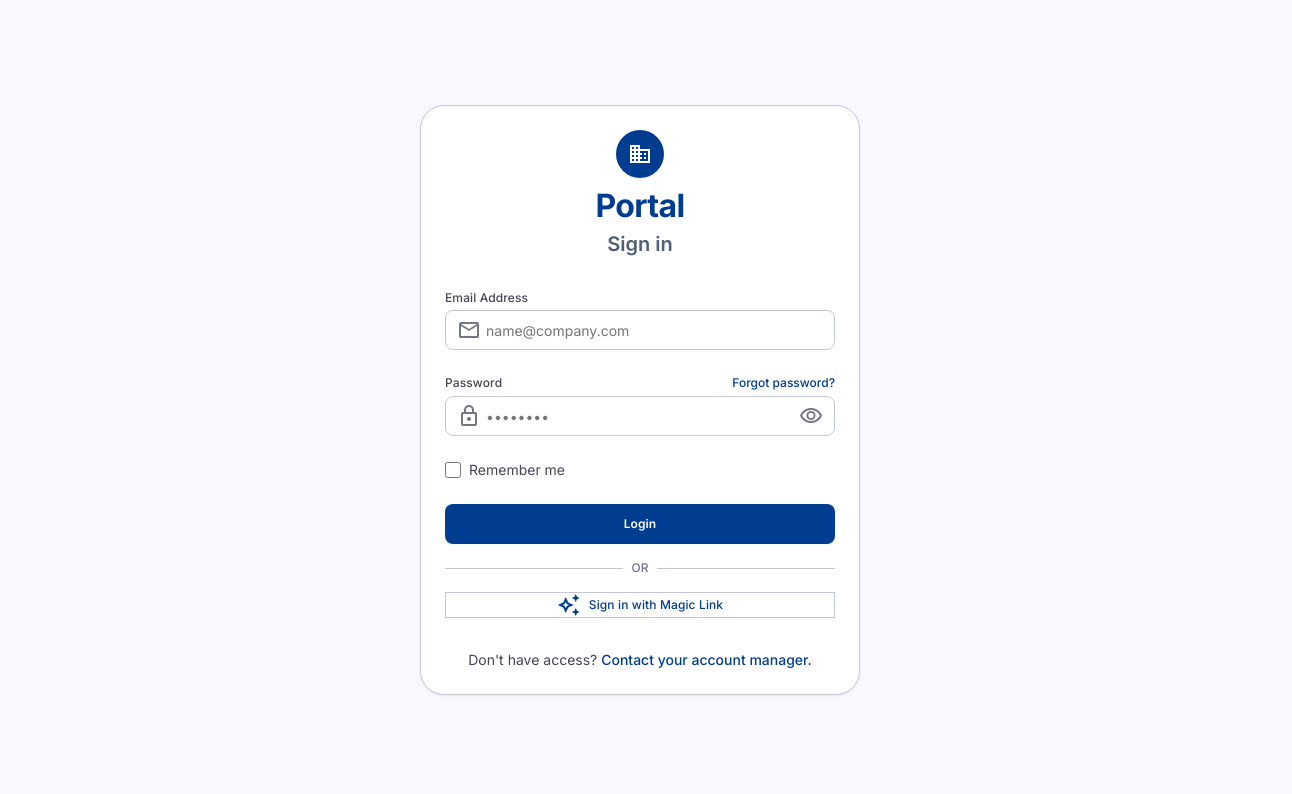
it: Customer Portal routing › logs in through login form and shows dashboard
The width and height of the screenshot is (1292, 794).
Type "demo@example.com" into the field labelled "Email Address".
click(640, 330); type("demo@example.com")  # box x1=445 y1=310 x2=835 y2=350
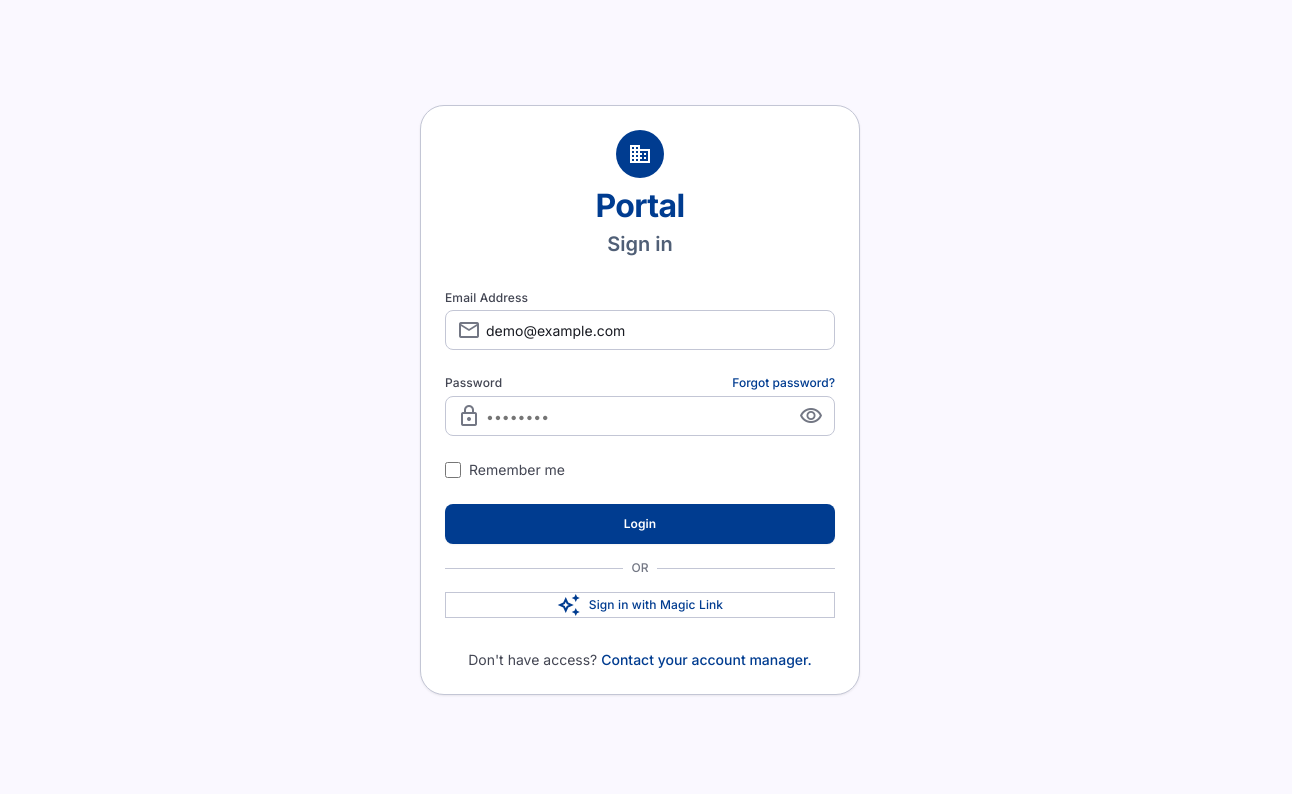
Type "Password123!" into the password field labelled "Password".
click(640, 416); type("Password123!")  # box x1=445 y1=396 x2=835 y2=436
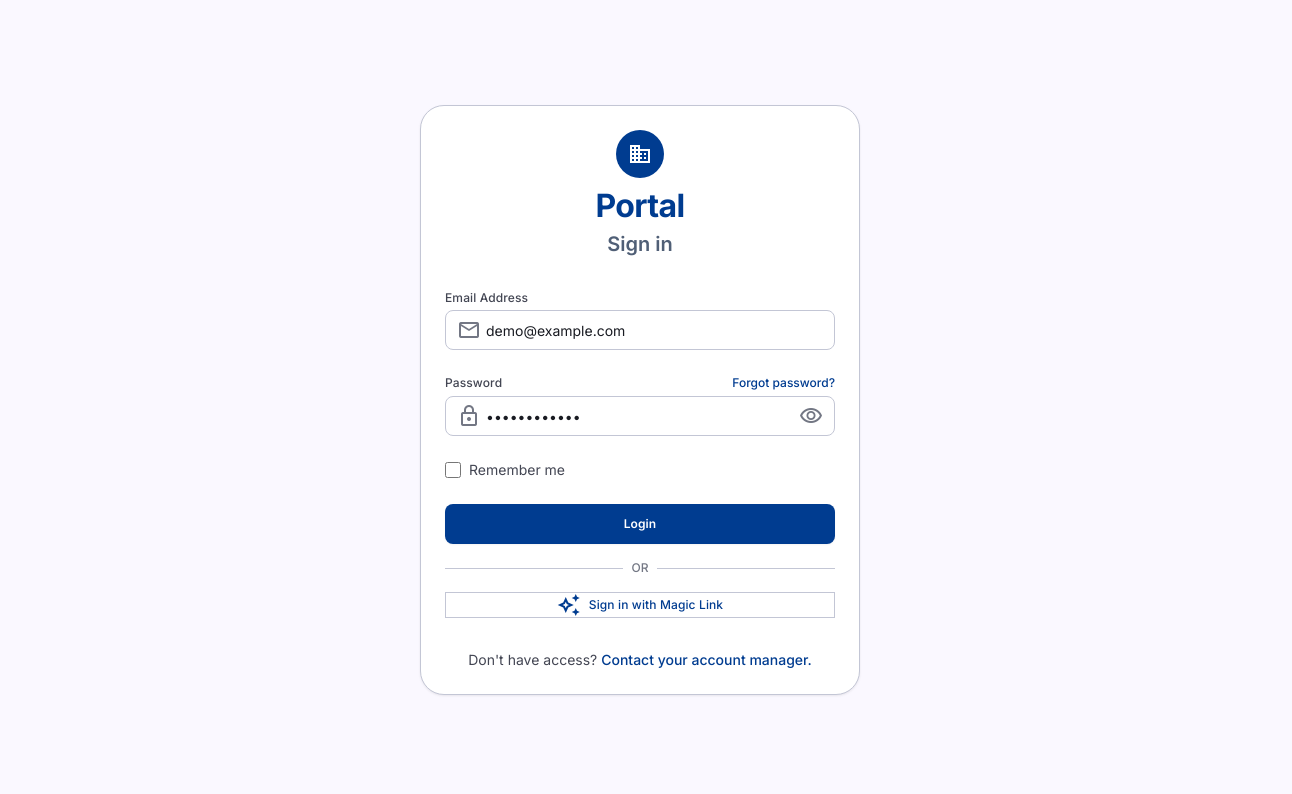
Click the button "Login".
click(640, 524)  # box x1=445 y1=504 x2=835 y2=544
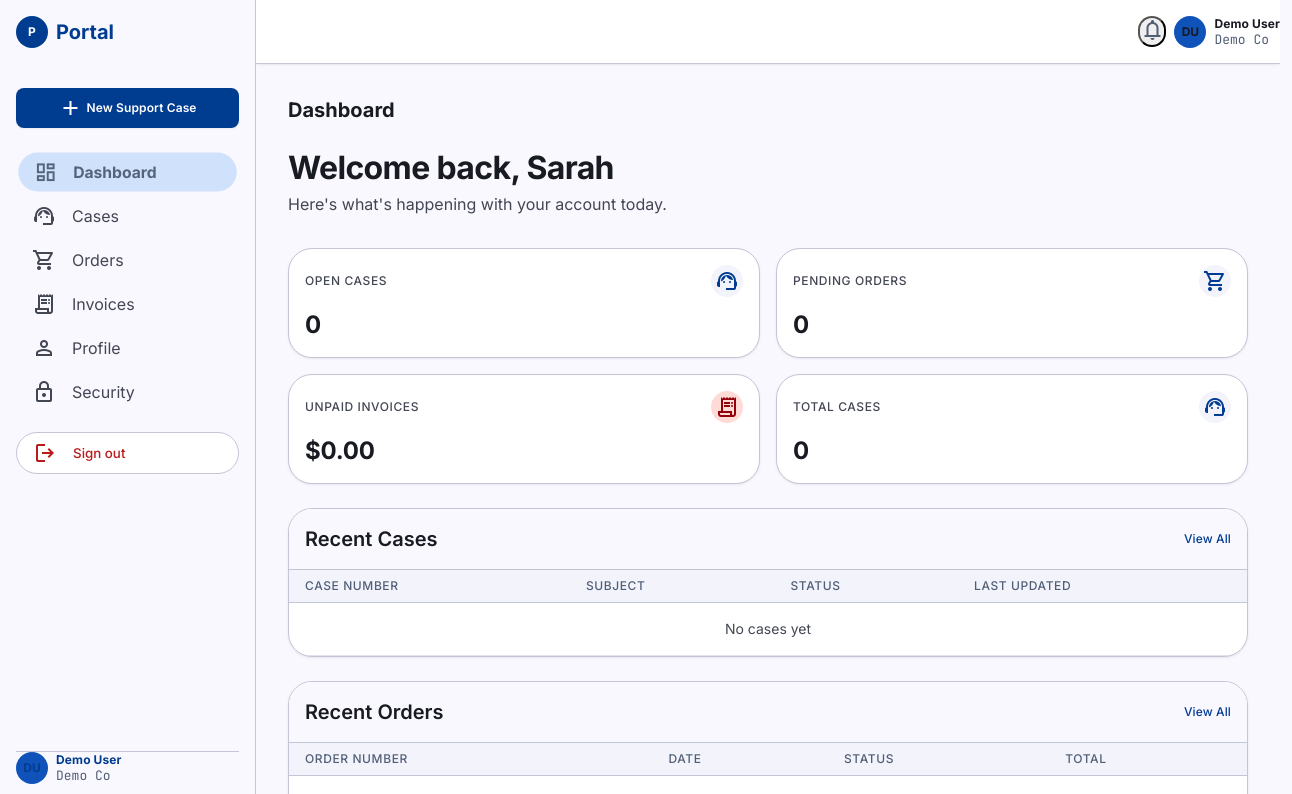
Result: the heading "Dashboard" is shown at x1=288 y1=96 x2=395 y2=124
